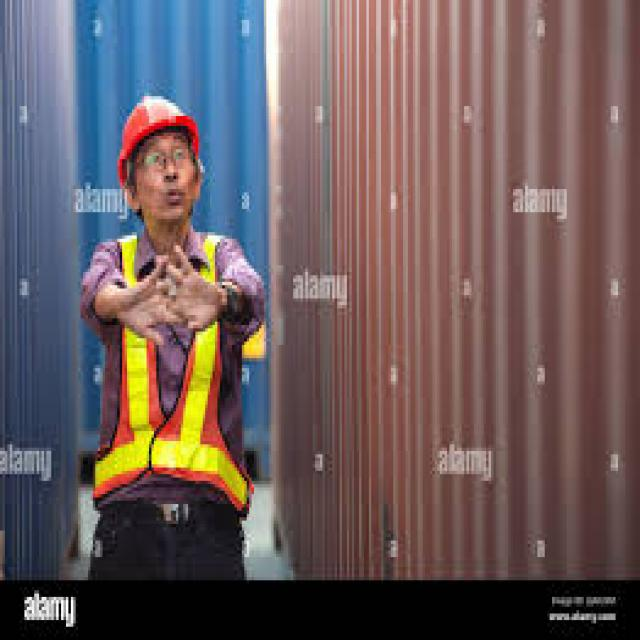Reflective-Jacket: (83, 225, 264, 524)
Safety-Helmet: (105, 83, 213, 182)
